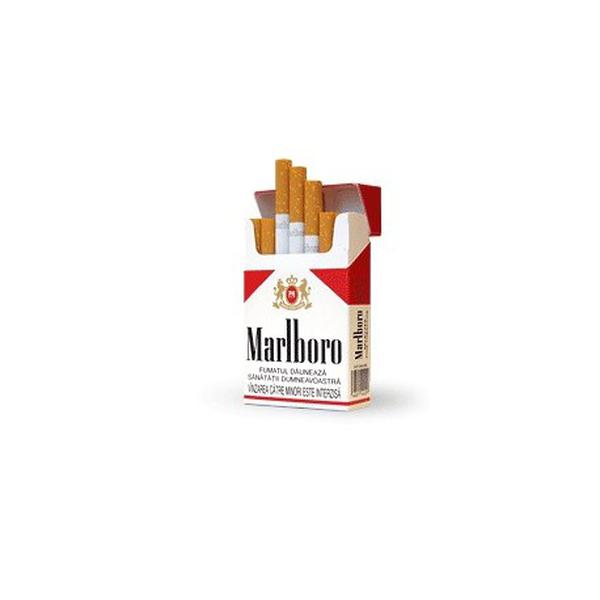marlboro_red: (244, 221, 350, 401)
